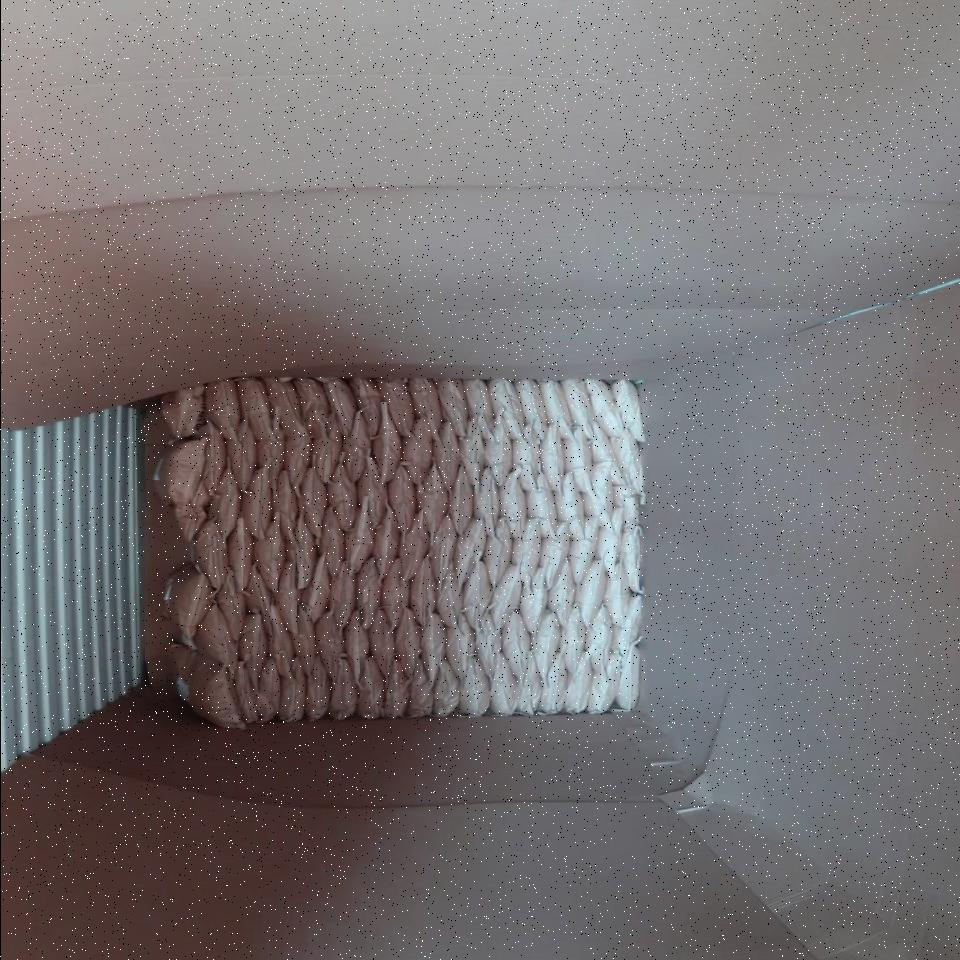bag: (172, 642, 244, 729), (163, 562, 213, 643), (192, 599, 238, 679), (153, 437, 206, 505), (587, 402, 626, 485), (309, 374, 354, 441), (258, 378, 307, 437), (205, 464, 241, 536), (241, 462, 275, 537), (451, 516, 484, 591), (373, 378, 413, 438), (371, 402, 400, 484), (174, 476, 210, 542), (194, 421, 227, 493), (488, 559, 520, 633), (272, 550, 300, 634), (161, 385, 206, 437), (414, 462, 446, 535), (226, 412, 255, 492), (292, 378, 330, 439), (253, 522, 287, 590), (609, 429, 641, 501), (482, 407, 511, 486), (342, 497, 372, 573), (310, 408, 340, 484), (400, 416, 433, 484), (582, 461, 614, 531), (406, 550, 436, 624), (287, 508, 315, 587), (192, 522, 226, 587), (407, 378, 442, 441), (510, 517, 540, 590), (586, 379, 623, 438), (398, 511, 430, 579), (242, 560, 273, 630), (496, 470, 527, 540), (563, 426, 594, 496), (487, 380, 523, 440), (608, 593, 641, 658), (538, 521, 571, 586), (441, 611, 473, 678), (566, 516, 598, 583), (536, 646, 567, 715), (356, 457, 387, 526), (215, 564, 244, 637), (574, 557, 607, 621), (300, 553, 331, 621), (525, 471, 556, 539), (538, 378, 572, 440), (553, 471, 584, 539), (267, 599, 294, 677), (257, 408, 282, 492), (299, 460, 327, 535), (353, 557, 382, 628), (461, 557, 489, 630), (315, 508, 344, 578), (380, 559, 409, 629), (342, 609, 368, 687), (387, 463, 414, 538), (347, 377, 380, 438), (313, 610, 343, 677), (560, 602, 586, 679), (501, 605, 530, 674), (510, 423, 539, 492), (237, 378, 270, 438), (429, 509, 455, 585), (205, 381, 239, 439), (470, 469, 499, 537), (394, 603, 421, 676), (548, 555, 575, 628), (341, 409, 368, 482), (482, 517, 510, 587), (275, 658, 305, 723), (433, 379, 466, 438), (489, 649, 518, 716), (327, 462, 355, 531), (239, 613, 265, 687), (532, 604, 558, 678), (562, 379, 594, 439), (458, 416, 483, 492), (291, 598, 317, 671), (474, 606, 501, 676), (589, 648, 617, 715), (373, 503, 399, 575), (597, 506, 623, 578), (433, 421, 459, 493), (458, 653, 487, 717), (227, 516, 252, 590), (519, 567, 547, 633), (370, 611, 396, 682), (515, 380, 546, 439), (329, 561, 354, 633), (271, 470, 297, 539), (614, 380, 643, 441), (539, 421, 563, 492), (436, 561, 461, 629), (464, 380, 492, 440), (420, 614, 443, 687), (586, 605, 611, 672), (516, 650, 542, 714), (330, 652, 354, 721), (382, 657, 408, 720), (255, 655, 280, 720), (449, 466, 472, 536), (604, 558, 628, 625), (431, 656, 458, 715), (283, 436, 310, 494), (406, 655, 431, 717), (616, 640, 638, 710), (358, 658, 383, 718), (307, 652, 329, 720), (566, 651, 589, 714), (233, 664, 257, 721), (623, 525, 642, 594), (613, 484, 638, 530)
